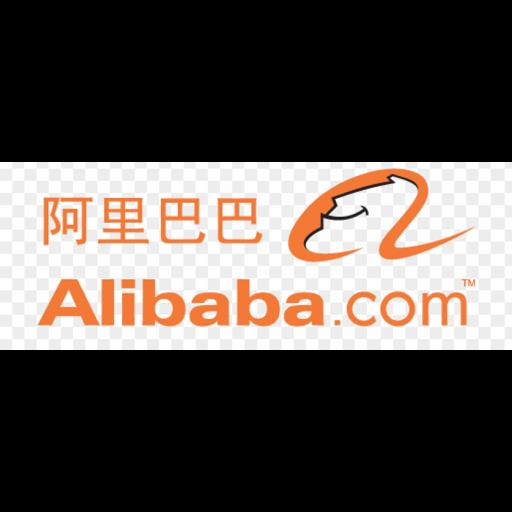Alibaba: (0, 162, 512, 350)
